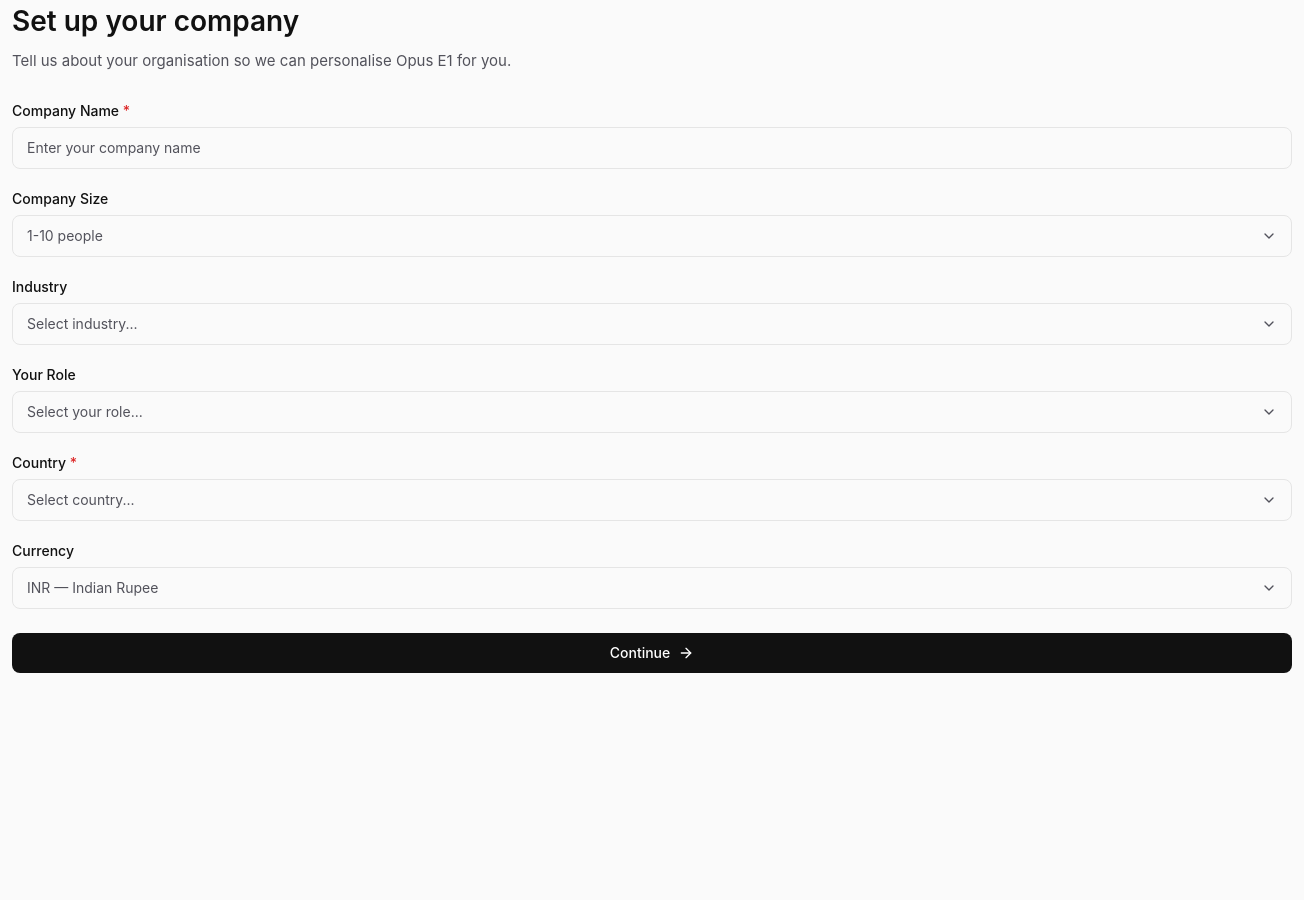
Test: CompanySetupForm › shows validation error when company name is empty
The image size is (1304, 900).
Click the button "Continue" at (652, 652), box [12,632,1292,672]
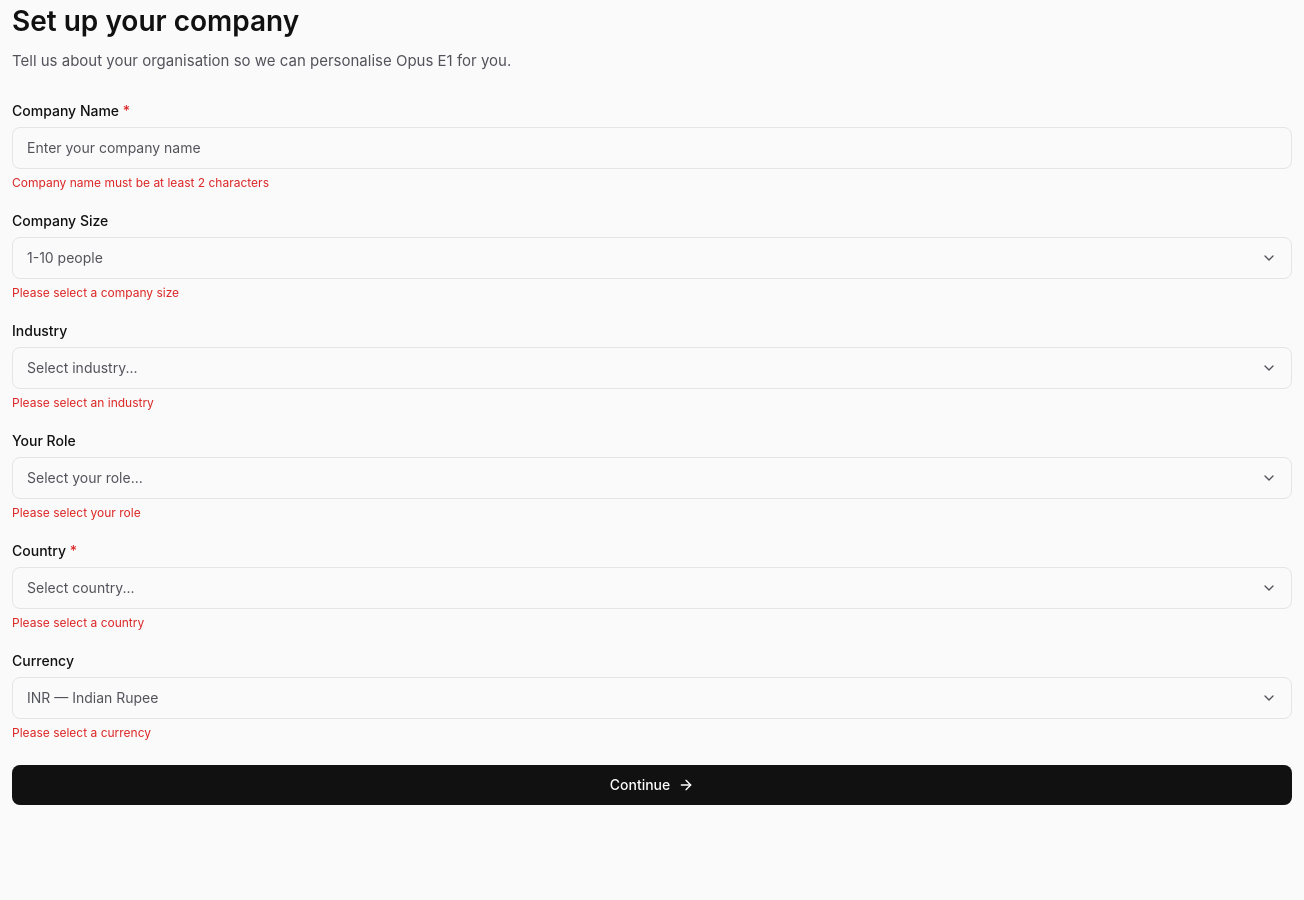
Result: the text "Company name must be at least 2 characters" is shown at [12,174,269,190]
